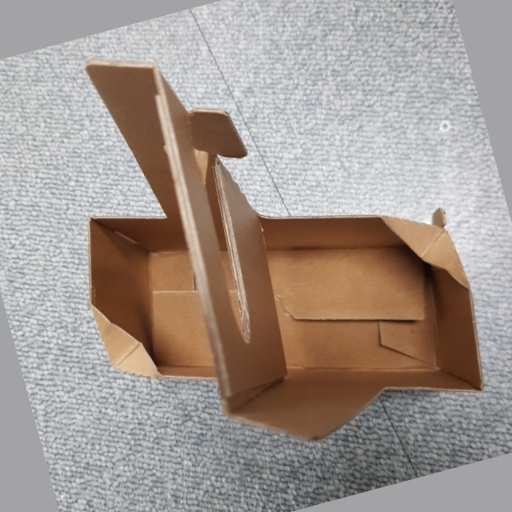Paper_0: (70, 56, 493, 453)
